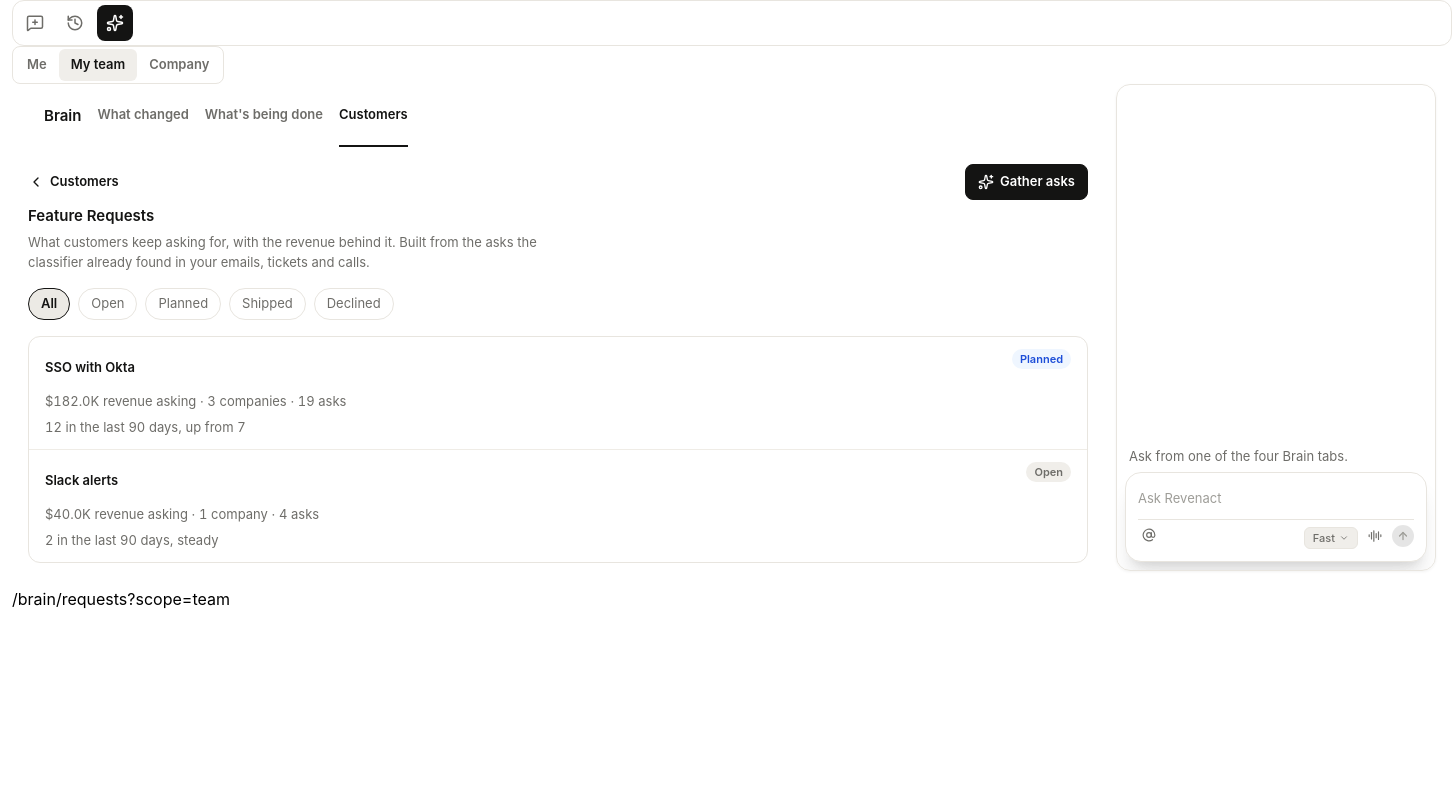
Feature Requests in a scope (customers spec §2.2) › reads the scope in the URL, and reads again on a switch
The image size is (1452, 802).
Check: the button "SSO with Okta" is shown, box [45,349,135,385]
Check: the text "CSV export" is not shown
Click the button "Company" at (179, 65), box [137,49,222,81]
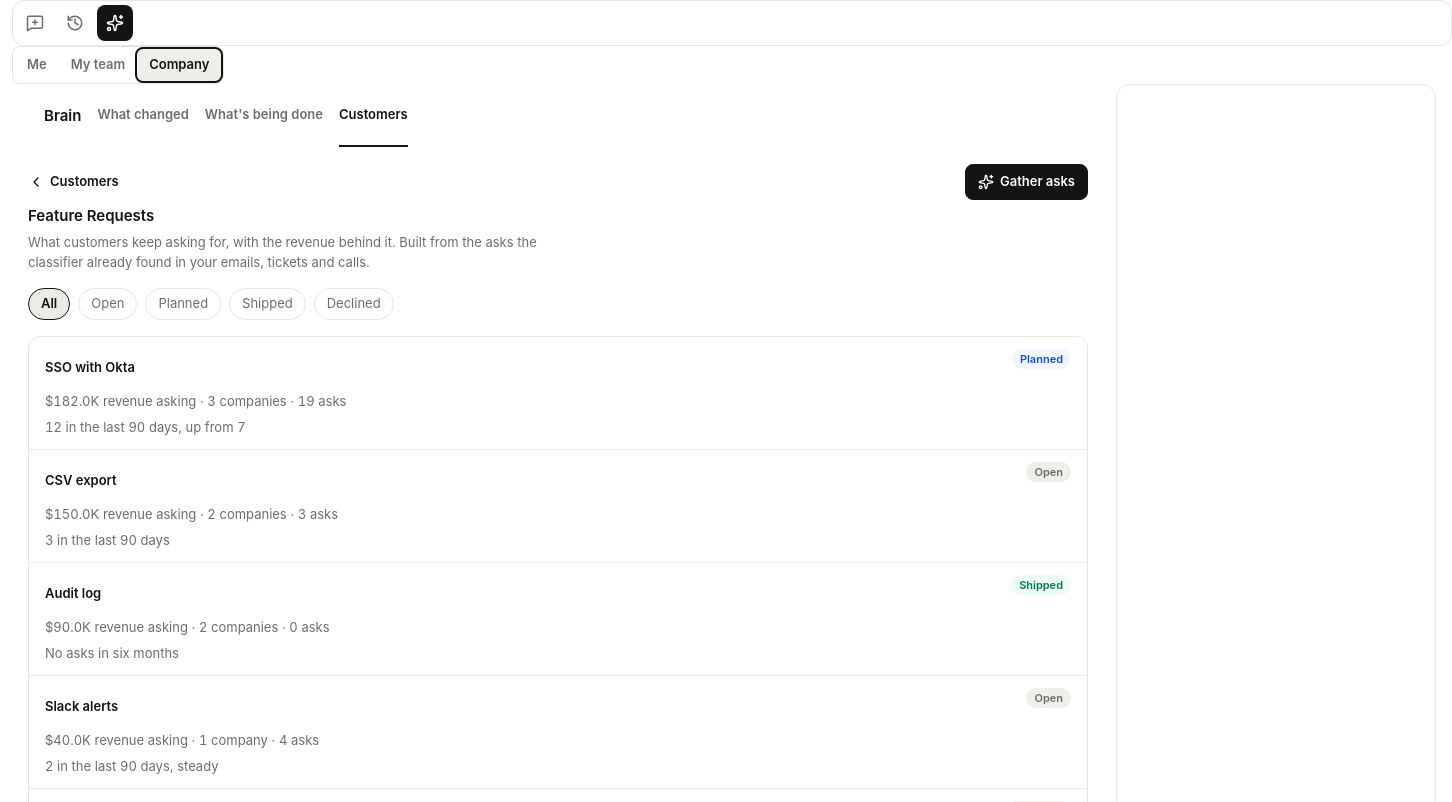
Check: the button "CSV export" is shown, box [45,462,117,498]
